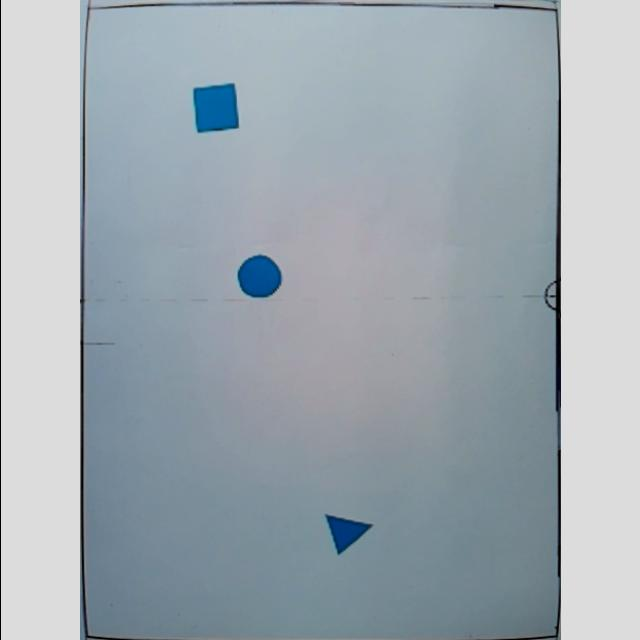blueCircle: (236, 254, 284, 298)
blueSquare: (192, 83, 242, 135)
blueTriangle: (324, 512, 374, 556)
